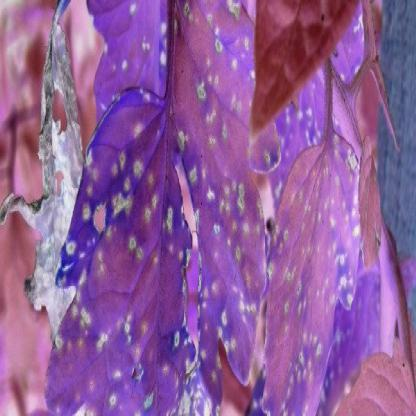Tomato Septoria leaf spot: (43, 8, 275, 414), (266, 121, 386, 414)
